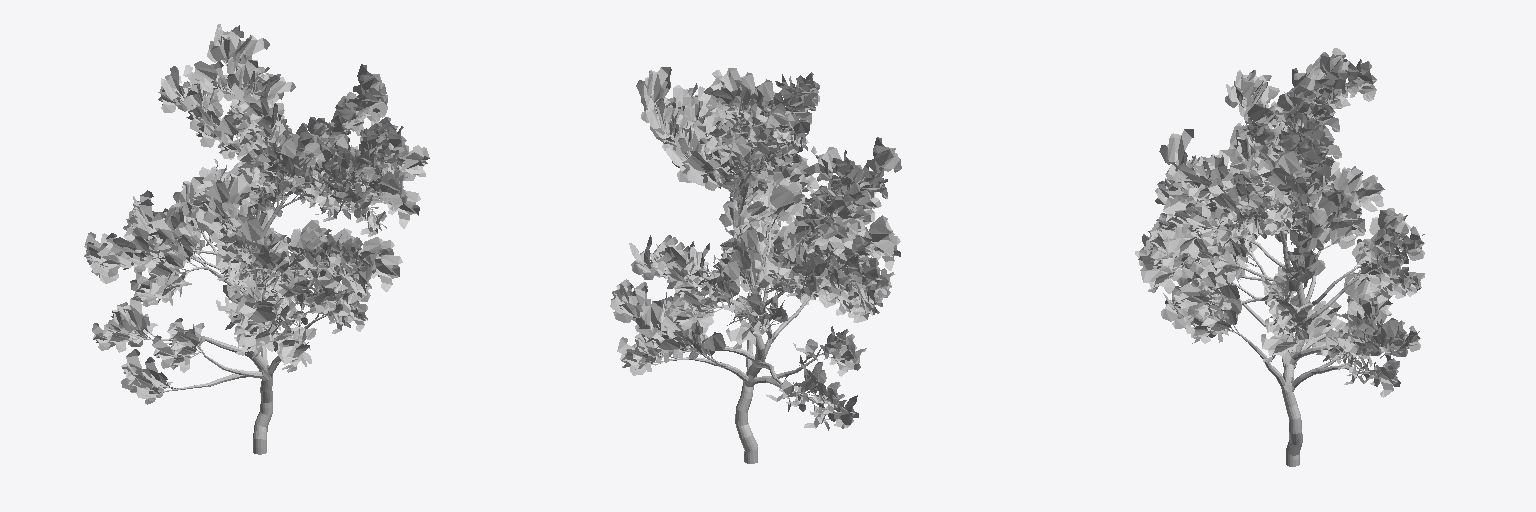
Rendered from tree.obj.
3 views of the same model, side by side, from view 1: azimuth 30°, elevation 25°; view 2: azimuth 150°, elevation 25°; view 3: azimuth 270°, elevation 25° (orthographic).
Parts seen in each view (by area): view 1: Plane.197_Plane.003; view 2: Plane.197_Plane.003; view 3: Plane.197_Plane.003.
Boxes of the visible parts, box(x1,y1,x2,y2) form: Plane.197_Plane.003: box(84, 24, 429, 454); Plane.197_Plane.003: box(610, 67, 901, 463); Plane.197_Plane.003: box(1135, 48, 1424, 466).
Bounding box in the file's own units: 15.95 × 21.59 × 14.03.